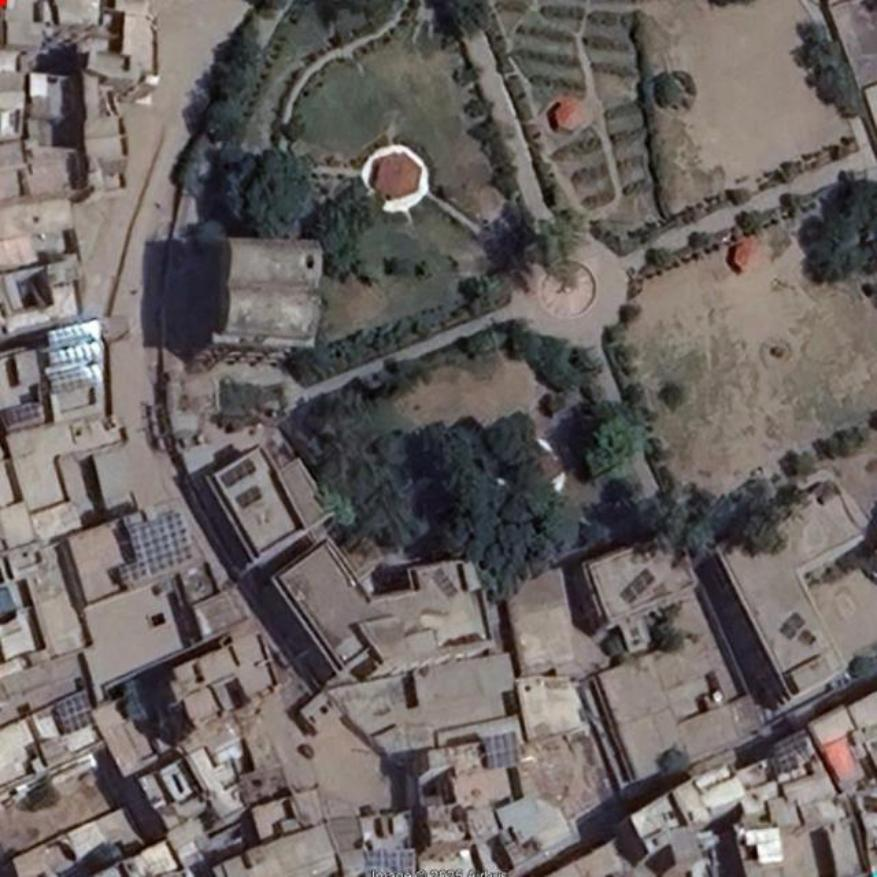Solarpanel: (110, 514, 191, 587), (50, 313, 102, 396), (56, 691, 92, 735), (482, 730, 519, 772), (363, 849, 417, 876), (217, 456, 256, 490), (620, 569, 656, 605), (1, 399, 44, 426), (236, 484, 264, 510)
